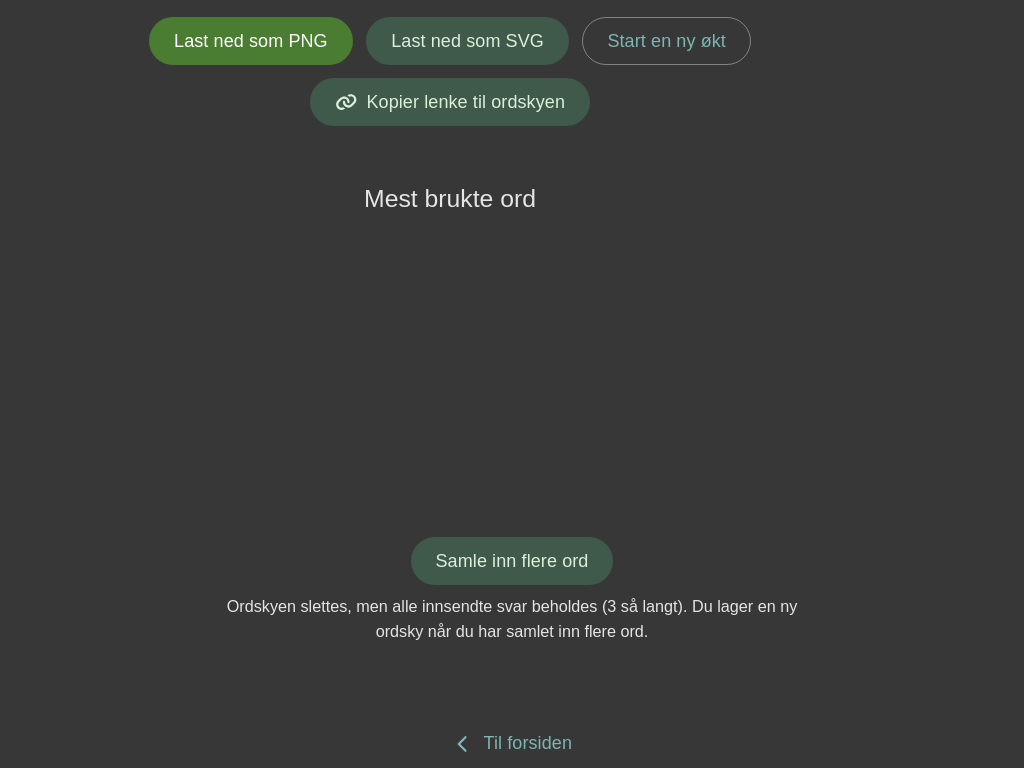
Test case: CollectPage › given a session where the cloud is already made › when the admin clicks collect more words, then the cloud is cleared and the wait screen shows the answers so far
(page scrolled)
Click the button "Samle inn flere ord" at (512, 561), box [410,537,614,585]
(page scrolled)
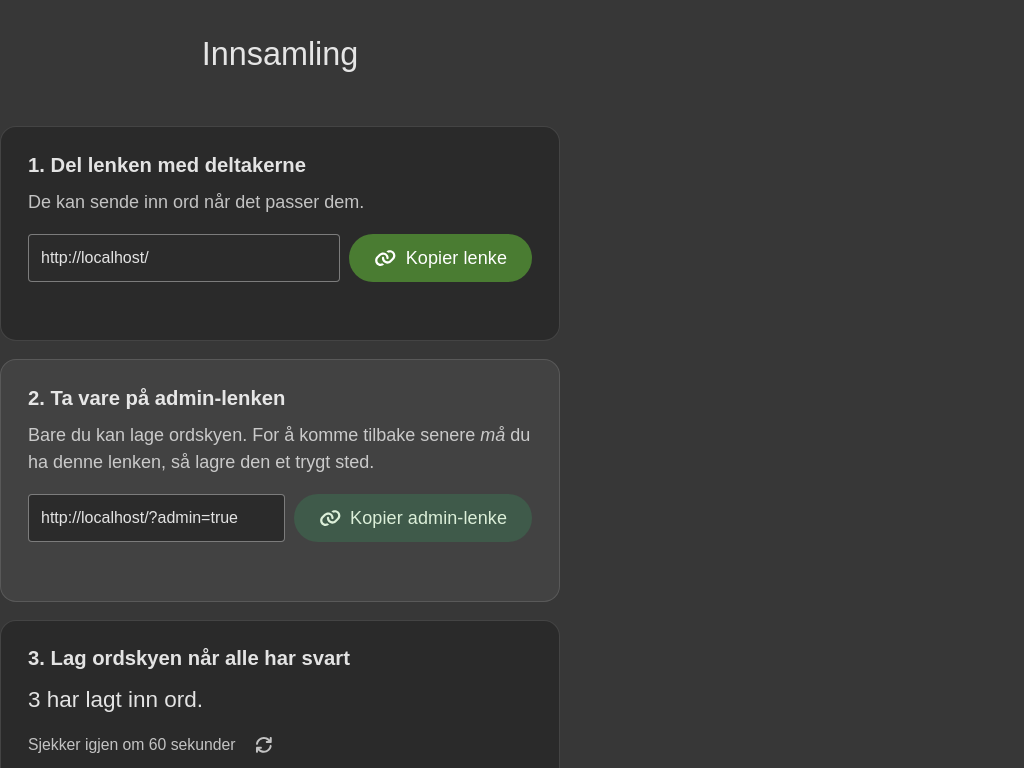
Expected: the text "3 har lagt inn ord." is shown, [28,687,203,712]
